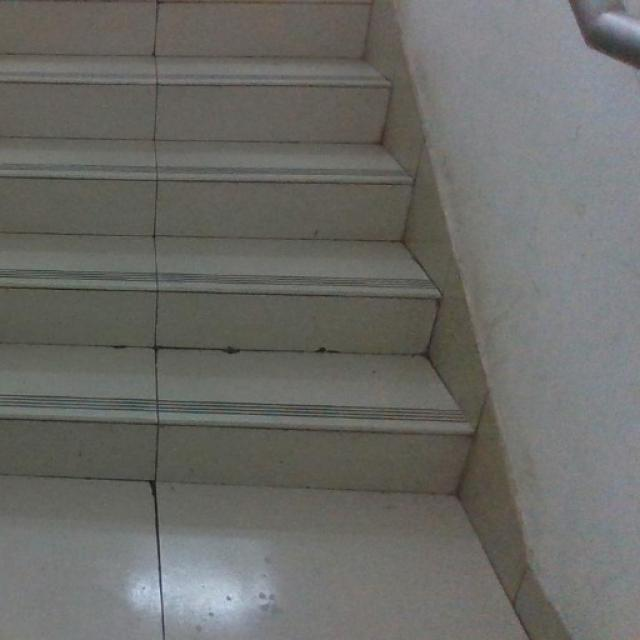stair: (5, 8, 518, 502)
